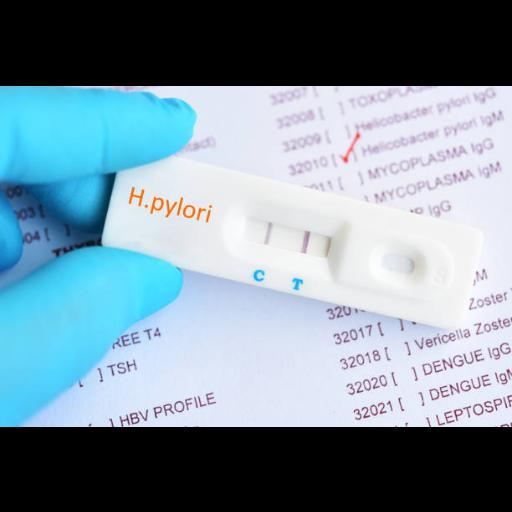Pos: (100, 144, 482, 331)
